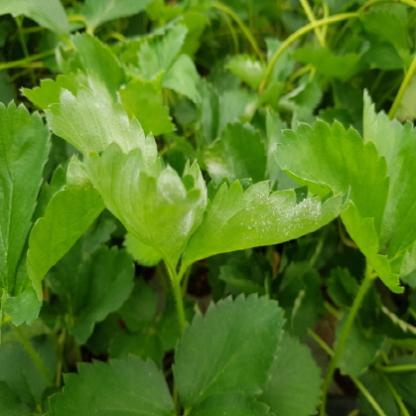Strawberry_Powdery_Mildew_Leaf: (178, 175, 356, 276), (76, 138, 208, 270), (18, 67, 168, 175)
